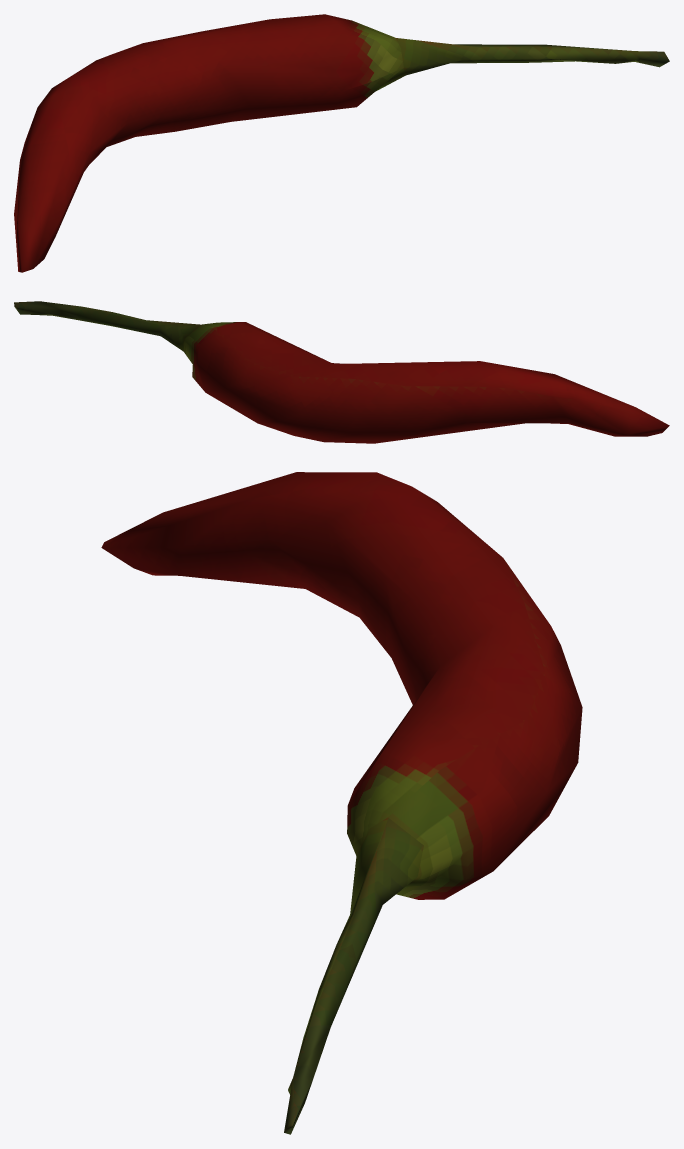
Rendered from ref_pepperfresh.fbx.
The picture shows the model from 3 angles, top to bottom: view 1: azimuth 30°, elevation 25°; view 2: azimuth 150°, elevation 25°; view 3: azimuth 270°, elevation 25°; orthographic projection. The views are drawn at different scales.
Visible parts, largest first — view 1: ref_pepperfresh; view 2: ref_pepperfresh; view 3: ref_pepperfresh.
Boxes of the visible parts, x1,y1,x2,y2 form: ref_pepperfresh: (14,14,669,272); ref_pepperfresh: (14,301,669,443); ref_pepperfresh: (101,472,582,1134).
Bounding box in the file's own units: 100 × 14.28 × 34.12.
Materials: 1 (1 with a texture image).
